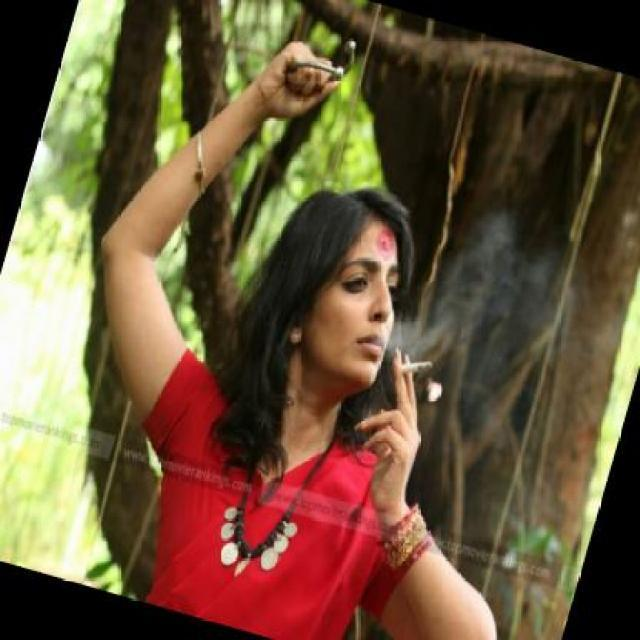cigarette: (396, 350, 436, 384)
